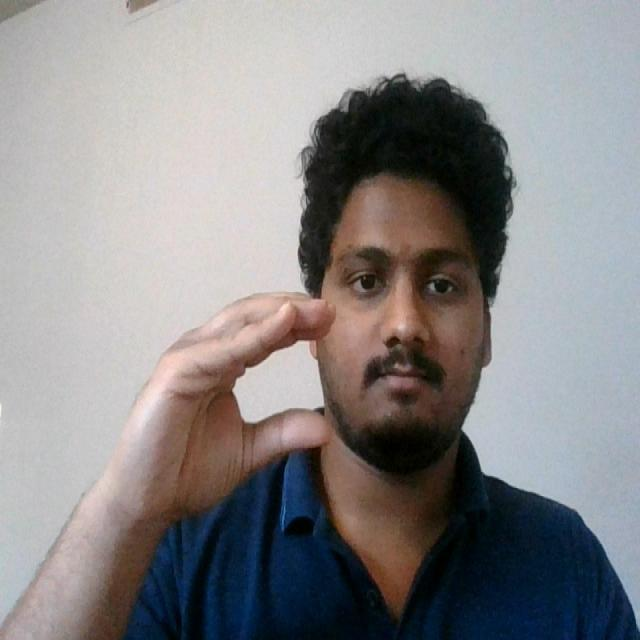No: (92, 290, 342, 540)
